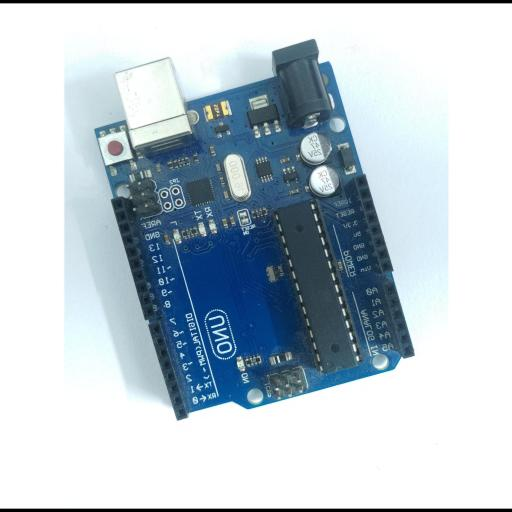Arduino Uno R3: (93, 38, 416, 421)
